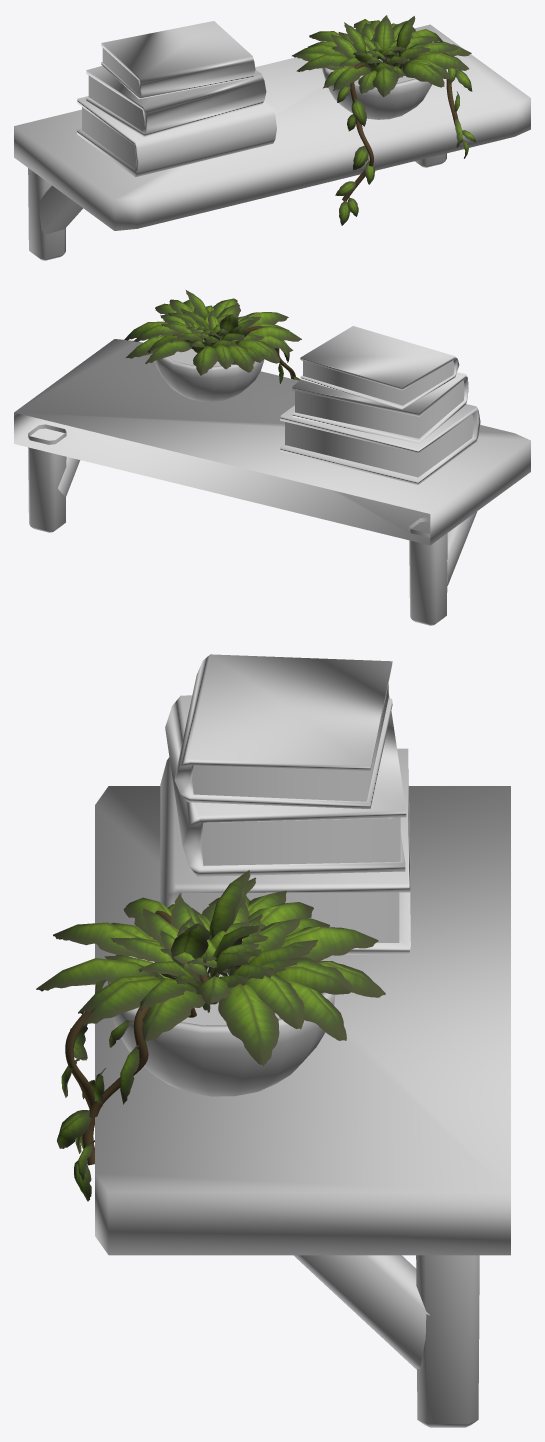
Rendered from Estanteria2_LOW.fbx.
The picture shows the model from 3 angles, top to bottom: view 1: azimuth 30°, elevation 25°; view 2: azimuth 150°, elevation 25°; view 3: azimuth 270°, elevation 25°; orthographic projection. The views are drawn at different scales.
Parts seen in each view (by area): view 1: Estanteria2_LOW, Libros2_LOW, Planta2_LOW; view 2: Estanteria2_LOW, Libros2_LOW, Planta2_LOW; view 3: Estanteria2_LOW, Libros2_LOW, Planta2_LOW.
Part boxes in pixels (left/top/right/bottom): Estanteria2_LOW: left=14, top=24, right=530, bottom=260; Libros2_LOW: left=77, top=21, right=276, bottom=177; Planta2_LOW: left=292, top=15, right=475, bottom=225; Estanteria2_LOW: left=14, top=339, right=530, bottom=625; Libros2_LOW: left=280, top=326, right=480, bottom=484; Planta2_LOW: left=124, top=290, right=301, bottom=401; Estanteria2_LOW: left=95, top=786, right=510, bottom=1427; Libros2_LOW: left=160, top=654, right=410, bottom=954; Planta2_LOW: left=36, top=870, right=385, bottom=1201.
Size of the model in its own units: 289 by 140 by 143.
